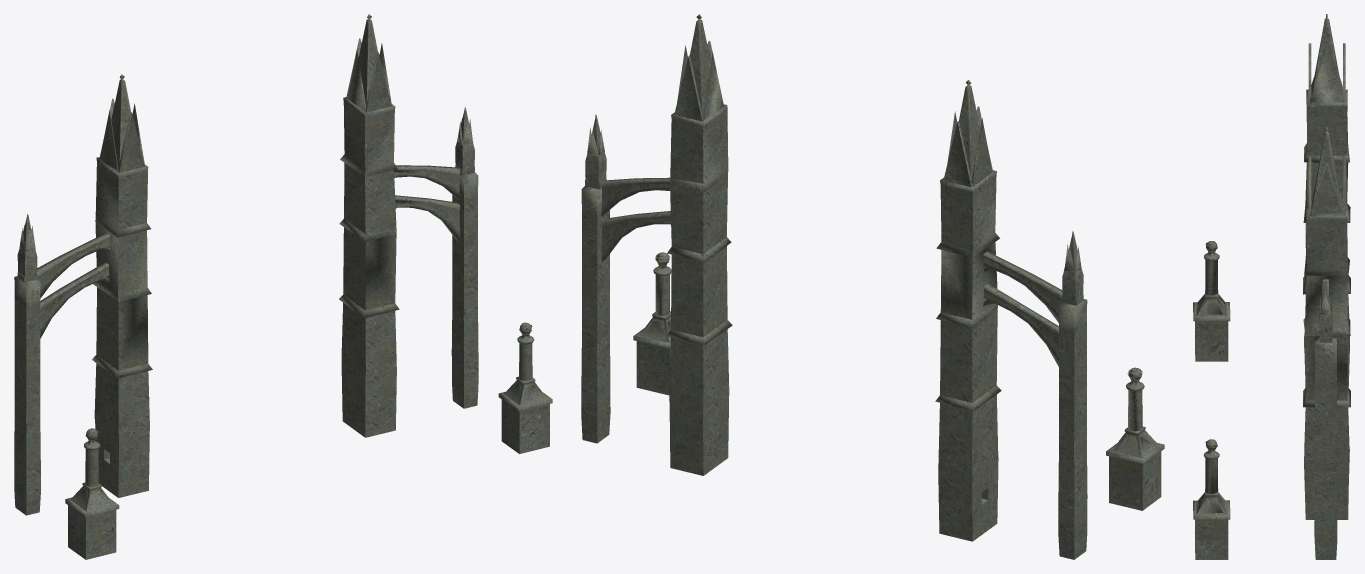
File: gate.obj
3 views of the same model, side by side, from view 1: azimuth 30°, elevation 25°; view 2: azimuth 150°, elevation 25°; view 3: azimuth 270°, elevation 25° (orthographic). The views are drawn at different scales.
Parts seen in each view (by area): view 1: arch, pCube2683, pCube2204; view 2: arch, pCube2204, pCube2683; view 3: arch, pCube2204, pCube2683.
Boxes of the visible parts, <box> form: arch: <box>14,14,478,515</box>; pCube2683: <box>498,322,552,453</box>; pCube2204: <box>65,428,119,559</box>; arch: <box>581,14,1087,559</box>; pCube2204: <box>1106,367,1164,510</box>; pCube2683: <box>633,252,671,395</box>; arch: <box>1303,14,1350,559</box>; pCube2204: <box>1193,241,1230,361</box>; pCube2683: <box>1193,439,1230,559</box>.
Bounding box in the file's own units: 0.0413 × 0.0347 × 0.0129.
Materials: 1 (1 with a texture image).
